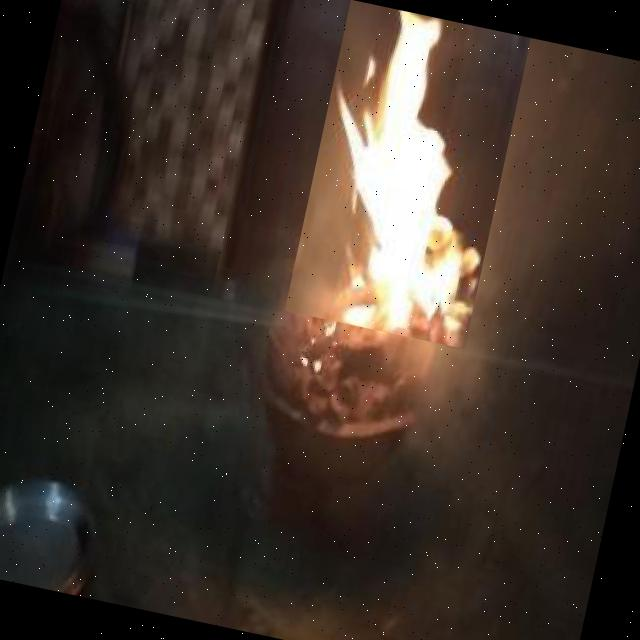fire: (284, 0, 530, 348)
